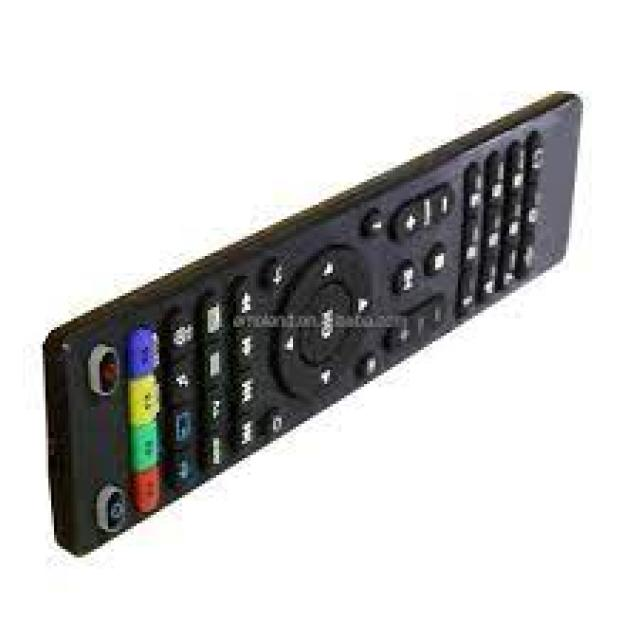remote: (50, 80, 583, 572)
